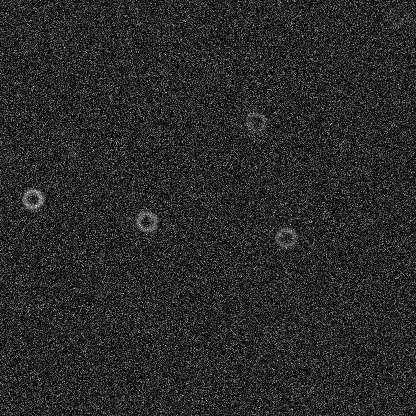Ring: (385, 3, 409, 27), (273, 225, 297, 249), (243, 110, 267, 134), (20, 186, 44, 210), (134, 209, 158, 233)
Spot: (63, 146, 79, 162)
